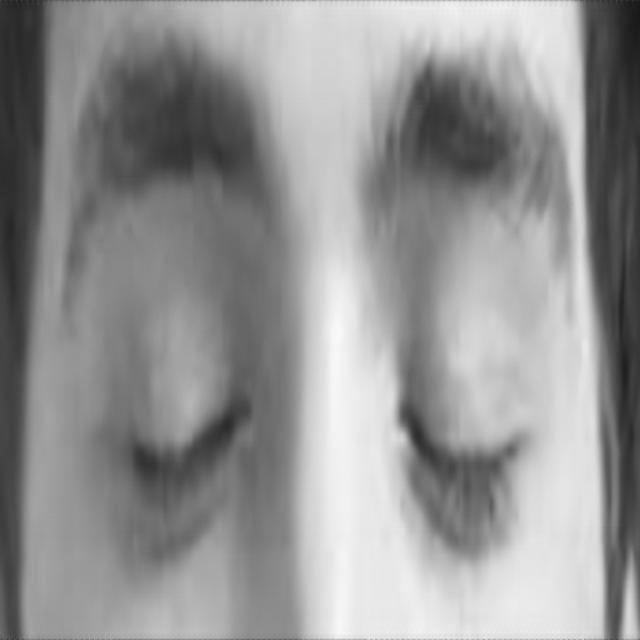real: (84, 153, 569, 612)
